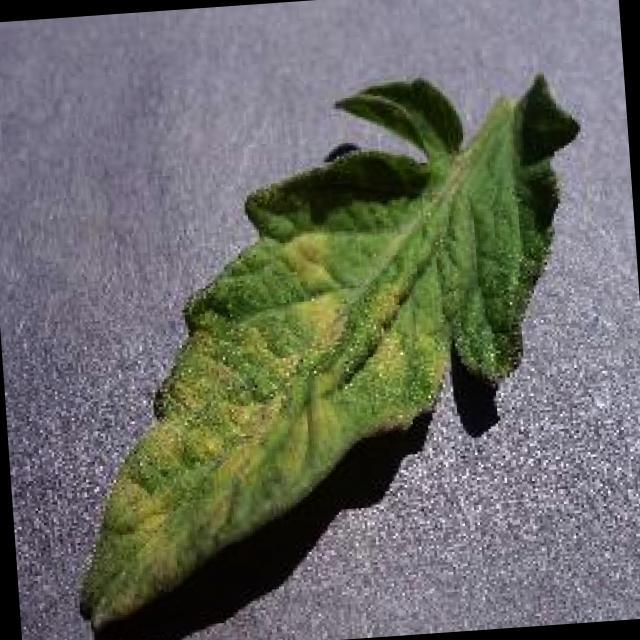Tomato mold leaf: (42, 57, 615, 638)
